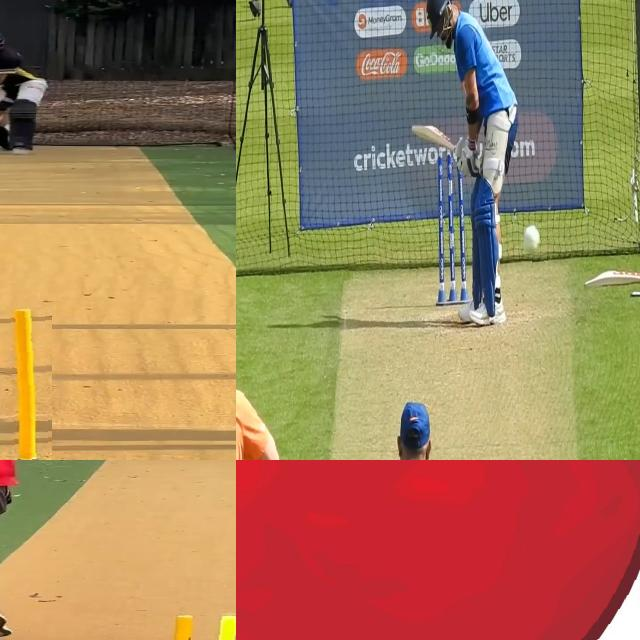Cricket ball: (236, 460, 640, 640)
Stumps: (0, 307, 52, 460), (521, 219, 547, 263)
